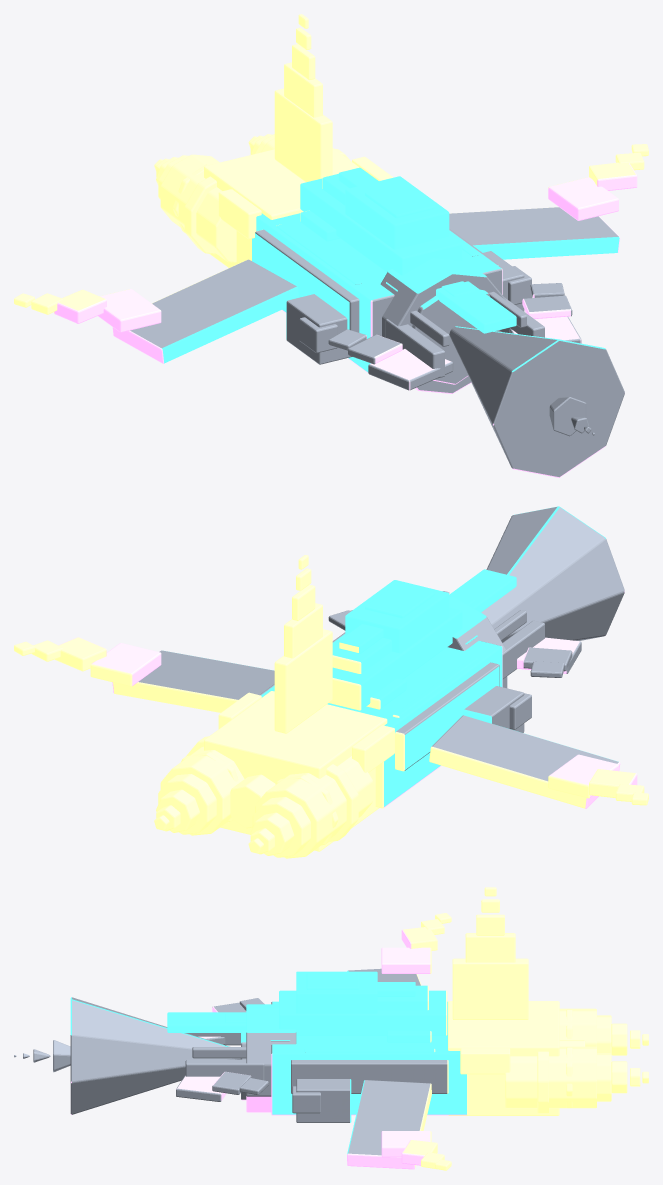
The model's file is Ship_Complete.fbx.
3 views of the same model, one above another, from view 1: azimuth 30°, elevation 25°; view 2: azimuth 150°, elevation 25°; view 3: azimuth 270°, elevation 25° (orthographic). The views are drawn at different scales.
Parts seen in each view (by area): view 1: Ship_Complete_Buffer_v5; view 2: Ship_Complete_Buffer_v5; view 3: Ship_Complete_Buffer_v5.
Part boxes in pixels (x1,y1,x2,y2): Ship_Complete_Buffer_v5: (14,14,648,477); Ship_Complete_Buffer_v5: (14,506,648,858); Ship_Complete_Buffer_v5: (14,887,648,1170).
Size of the model in its own units: 4.56 by 1.89 by 4.83.
